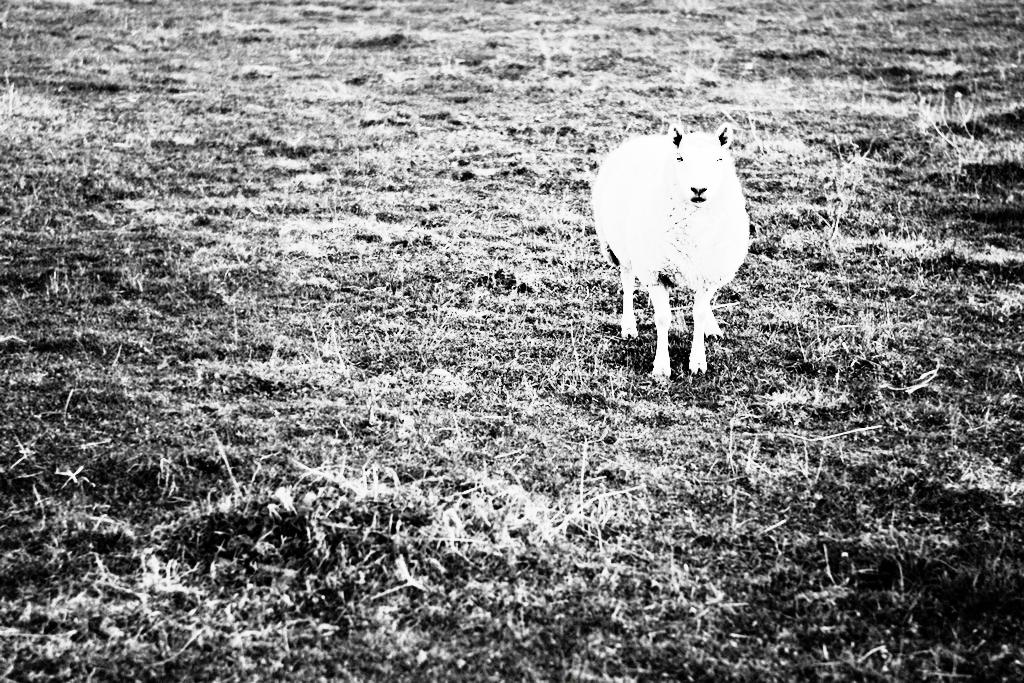Sheep: (592, 123, 750, 377)
